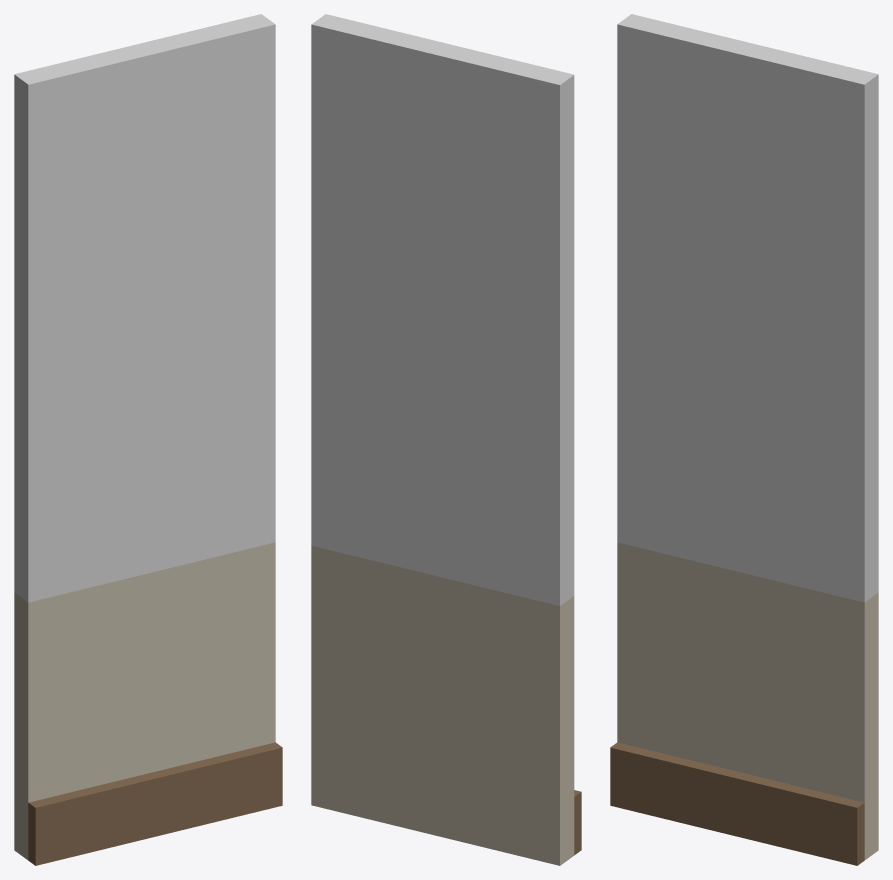
Rendered from Mesh_WallBaseboard2Colors_B1.fbx.
3 renders of one model, left to right at view 1: azimuth 30°, elevation 25°; view 2: azimuth 150°, elevation 25°; view 3: azimuth 330°, elevation 25°, orthographic.
Visible parts, largest first — view 1: Mesh_WallBaseboard2Colors_B1; view 2: Mesh_WallBaseboard2Colors_B1; view 3: Mesh_WallBaseboard2Colors_B1.
Boxes of the visible parts, box(x1,y1,x2,y2) form: Mesh_WallBaseboard2Colors_B1: box(14, 14, 282, 865); Mesh_WallBaseboard2Colors_B1: box(311, 14, 581, 865); Mesh_WallBaseboard2Colors_B1: box(610, 14, 878, 865).
Bounding box in the file's own units: 1 × 3 × 0.15.
